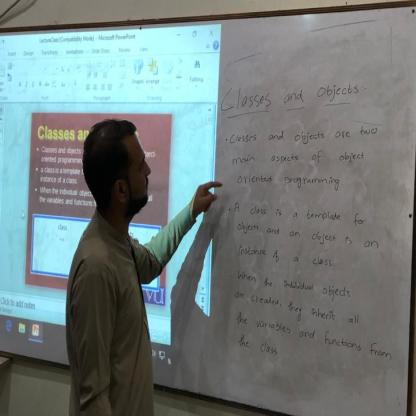Handwritten text: (226, 309, 402, 367), (223, 282, 372, 331), (226, 112, 388, 148), (219, 194, 372, 232), (218, 74, 366, 113), (230, 215, 386, 252), (228, 263, 358, 304), (229, 238, 342, 274), (225, 140, 369, 167), (234, 168, 346, 194), (226, 328, 290, 371)
Lecturer: (54, 104, 198, 405)
